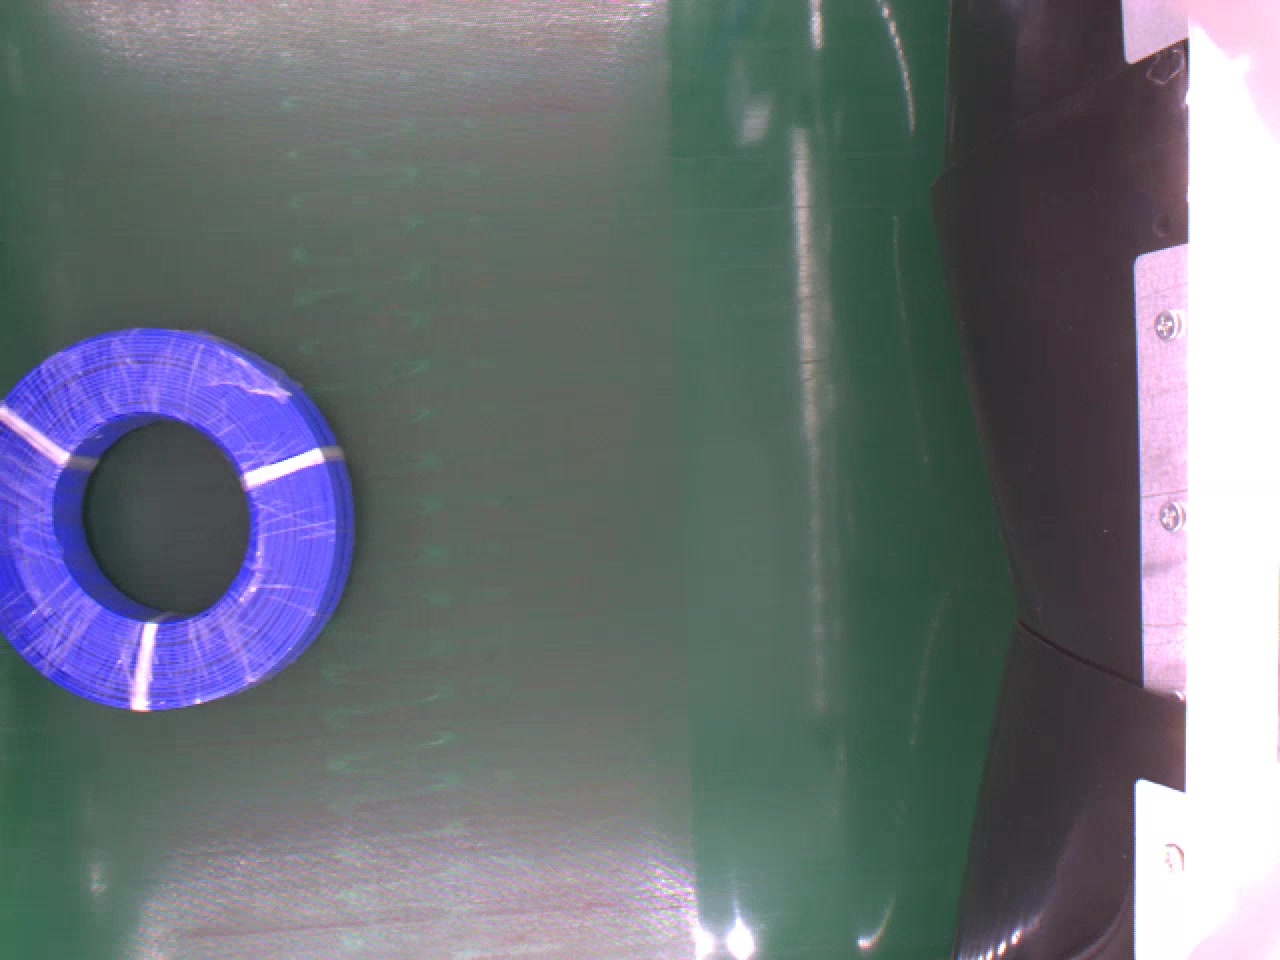blue: (0, 324, 356, 708)
